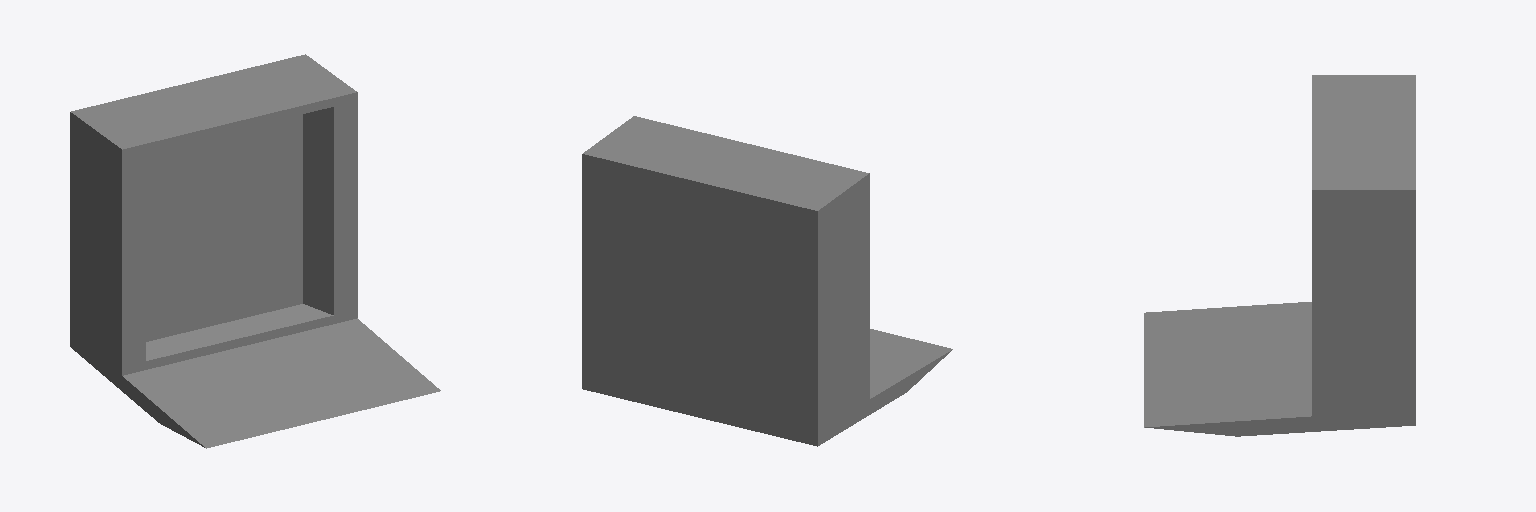
Rendered from window_small_thin.obj.
3 views of the same model, side by side, from view 1: azimuth 30°, elevation 25°; view 2: azimuth 150°, elevation 25°; view 3: azimuth 270°, elevation 25° (orthographic).
Visible parts, largest first — view 1: Box021; view 2: Box021; view 3: Box021.
Part boxes in pixels (x1,y1,x2,y2): Box021: (70,54,440,448); Box021: (582,116,952,446); Box021: (1144,75,1415,436).
Size of the model in its own units: 12.8 by 12.81 by 12.81.